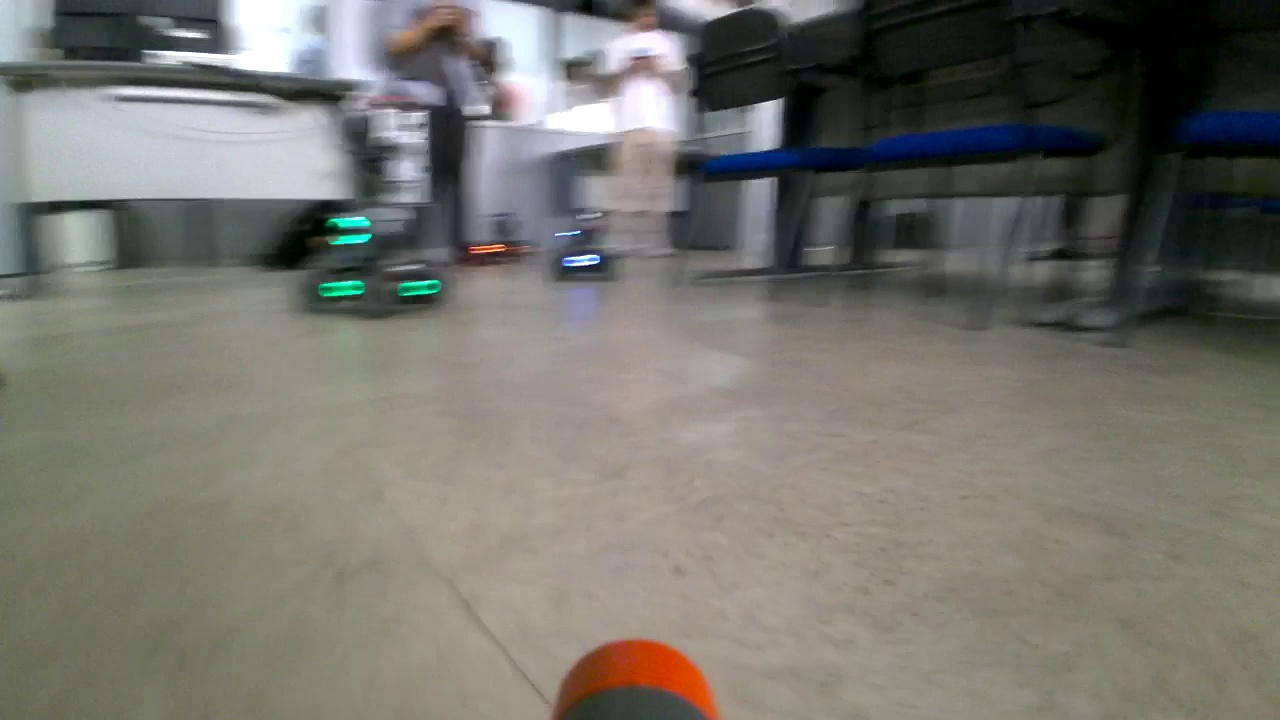robot: (302, 213, 449, 310), (548, 209, 620, 281), (456, 210, 537, 263)
